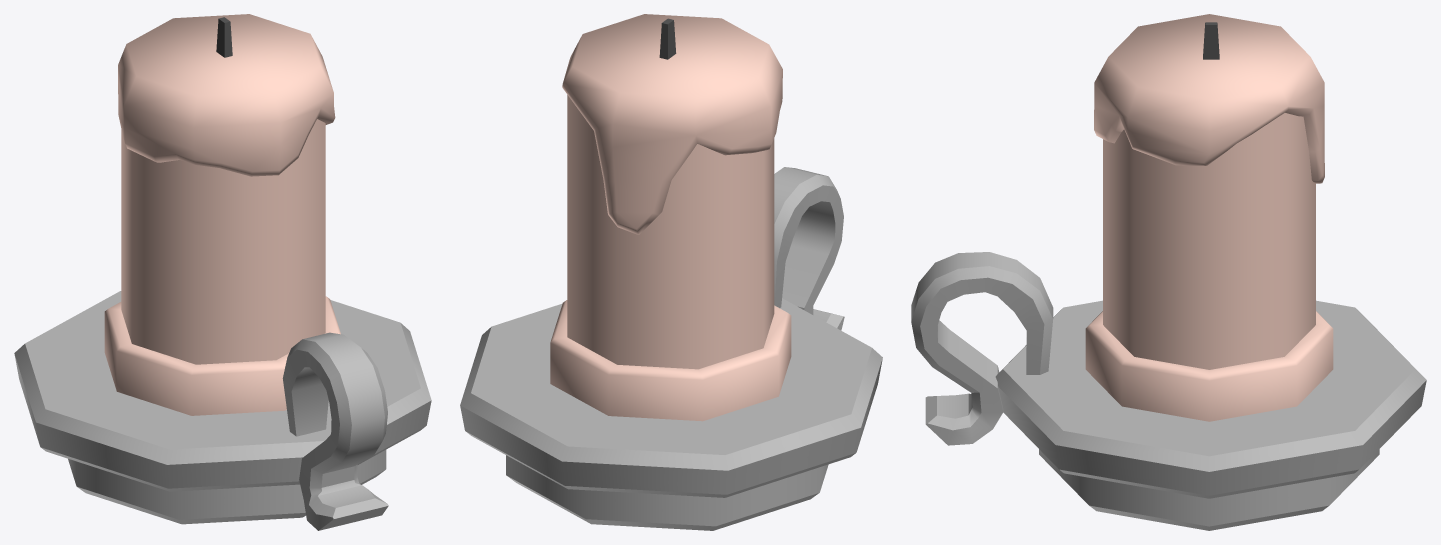
The model's file is Candle.fbx.
3 views of the same model, side by side, from view 1: azimuth 30°, elevation 25°; view 2: azimuth 150°, elevation 25°; view 3: azimuth 270°, elevation 25° (orthographic).
Visible parts, largest first — view 1: Candle_LOD0; view 2: Candle_LOD0; view 3: Candle_LOD0.
Part boxes in pixels (<box>): Candle_LOD0: <box>14,14,431,530</box>; Candle_LOD0: <box>460,14,882,530</box>; Candle_LOD0: <box>911,14,1426,530</box>.
Size of what is drawn, in the model's own units: 46.73 by 52.3 by 55.4.
